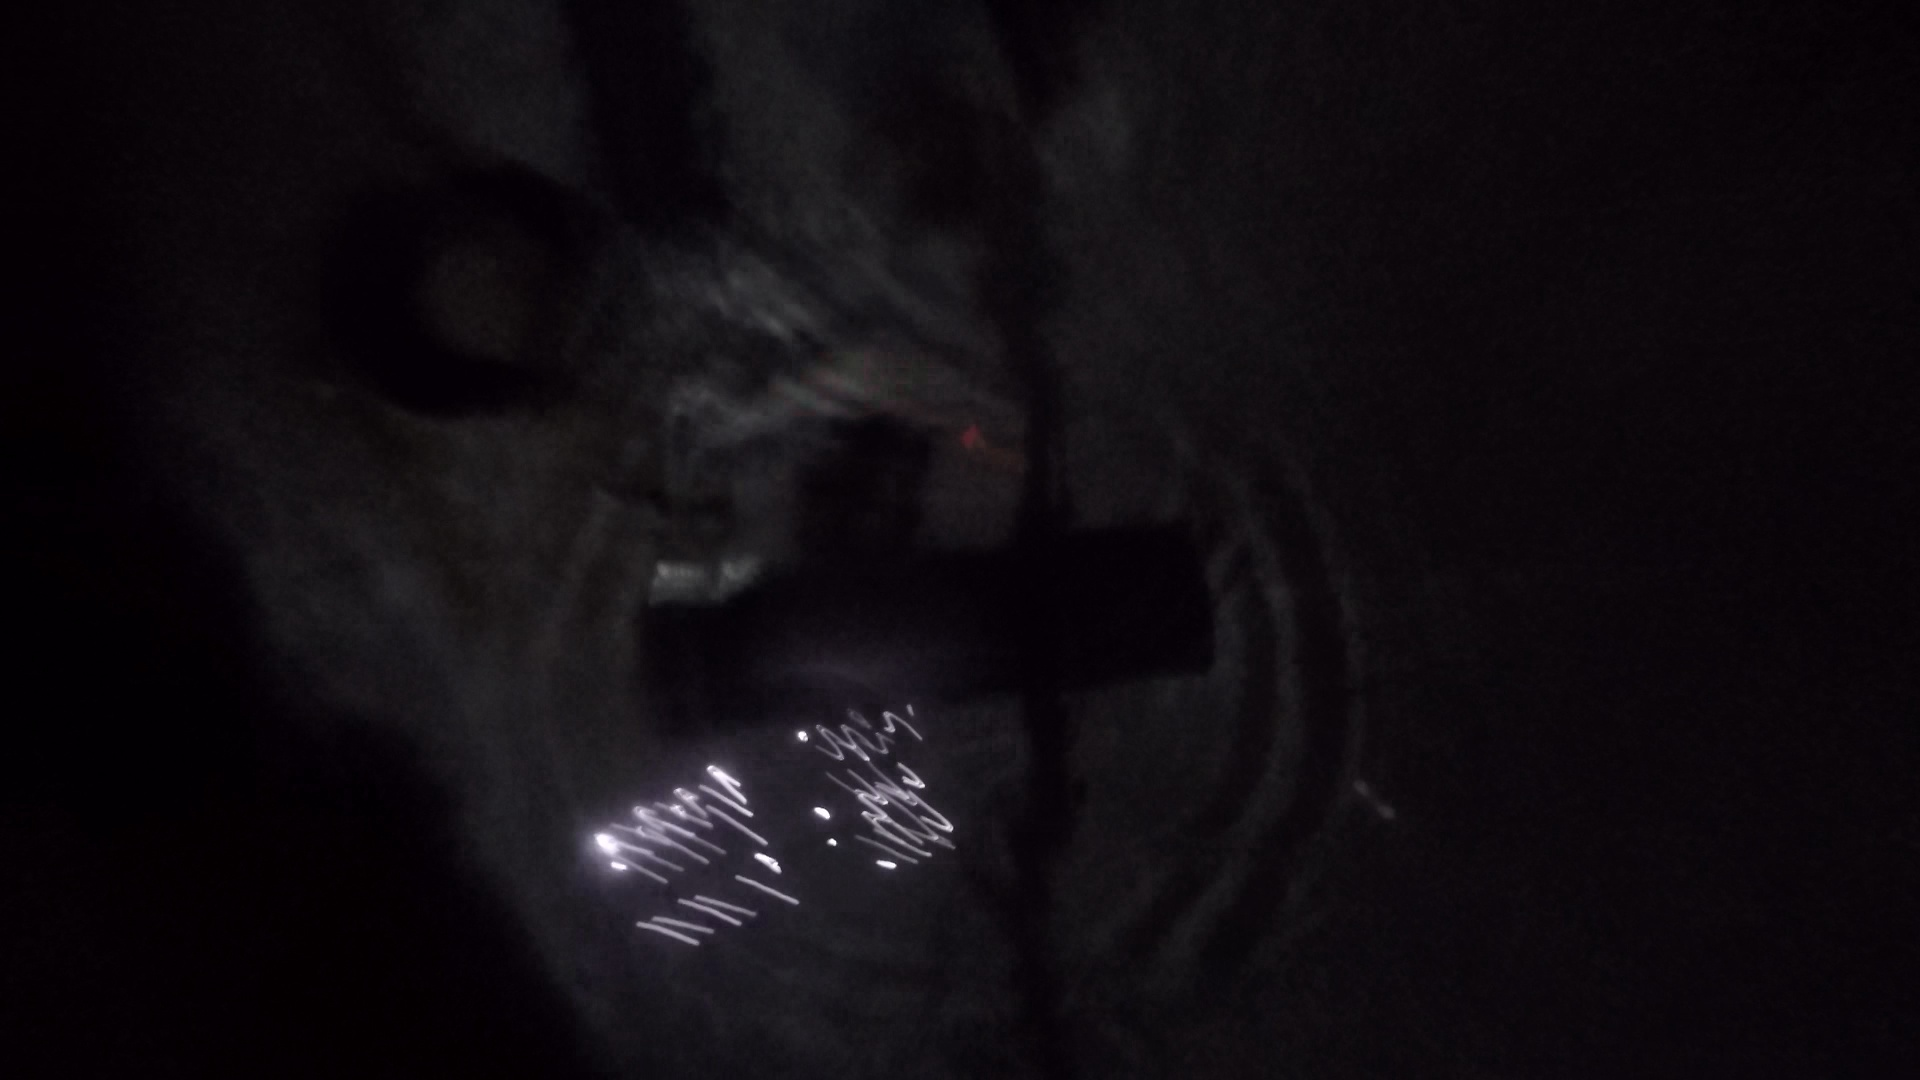pipe: (640, 524, 1217, 716), (320, 170, 592, 411)
